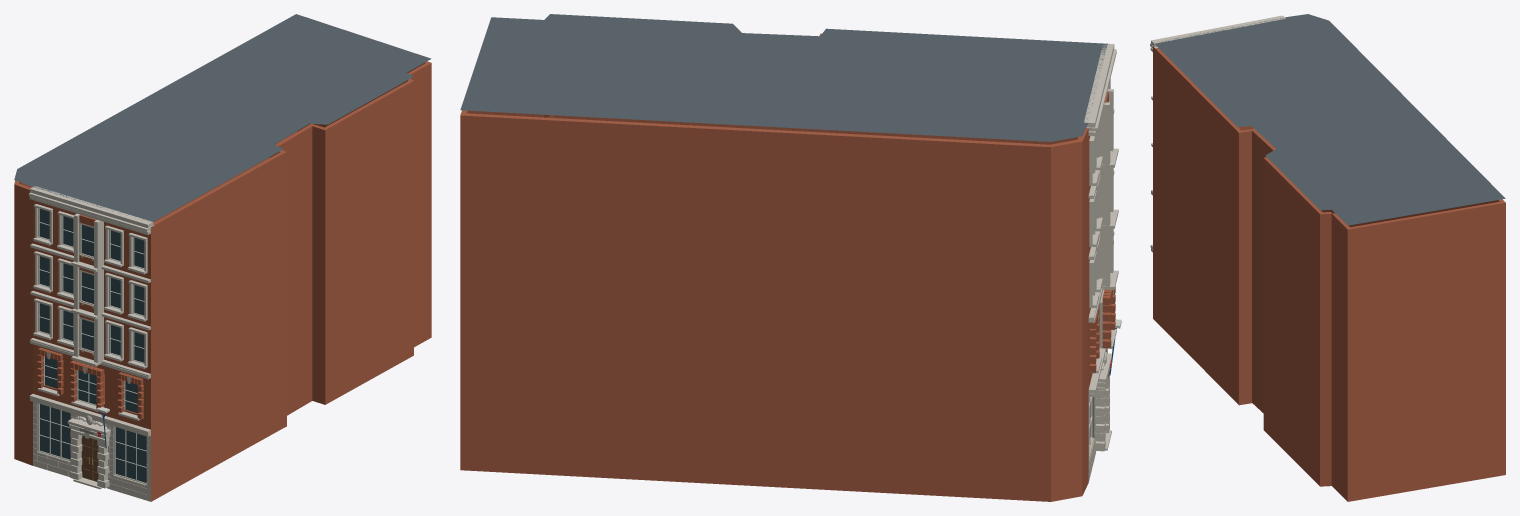
Rendered from ksw-exterior-5ccf0e11fabb.glb.
3 views of the same model, side by side, from view 1: azimuth 30°, elevation 25°; view 2: azimuth 150°, elevation 25°; view 3: azimuth 270°, elevation 25° (orthographic). The views are drawn at different scales.
Parts seen in each view (by area): view 1: KSW.001; view 2: KSW.001; view 3: KSW.001.
Part boxes in pixels (box(x1,y1,x2,y2)): KSW.001: box(14, 14, 431, 501); KSW.001: box(460, 14, 1121, 501); KSW.001: box(1150, 14, 1505, 501).
Bounding box in the file's own units: 33.77 × 20.55 × 23.99.
